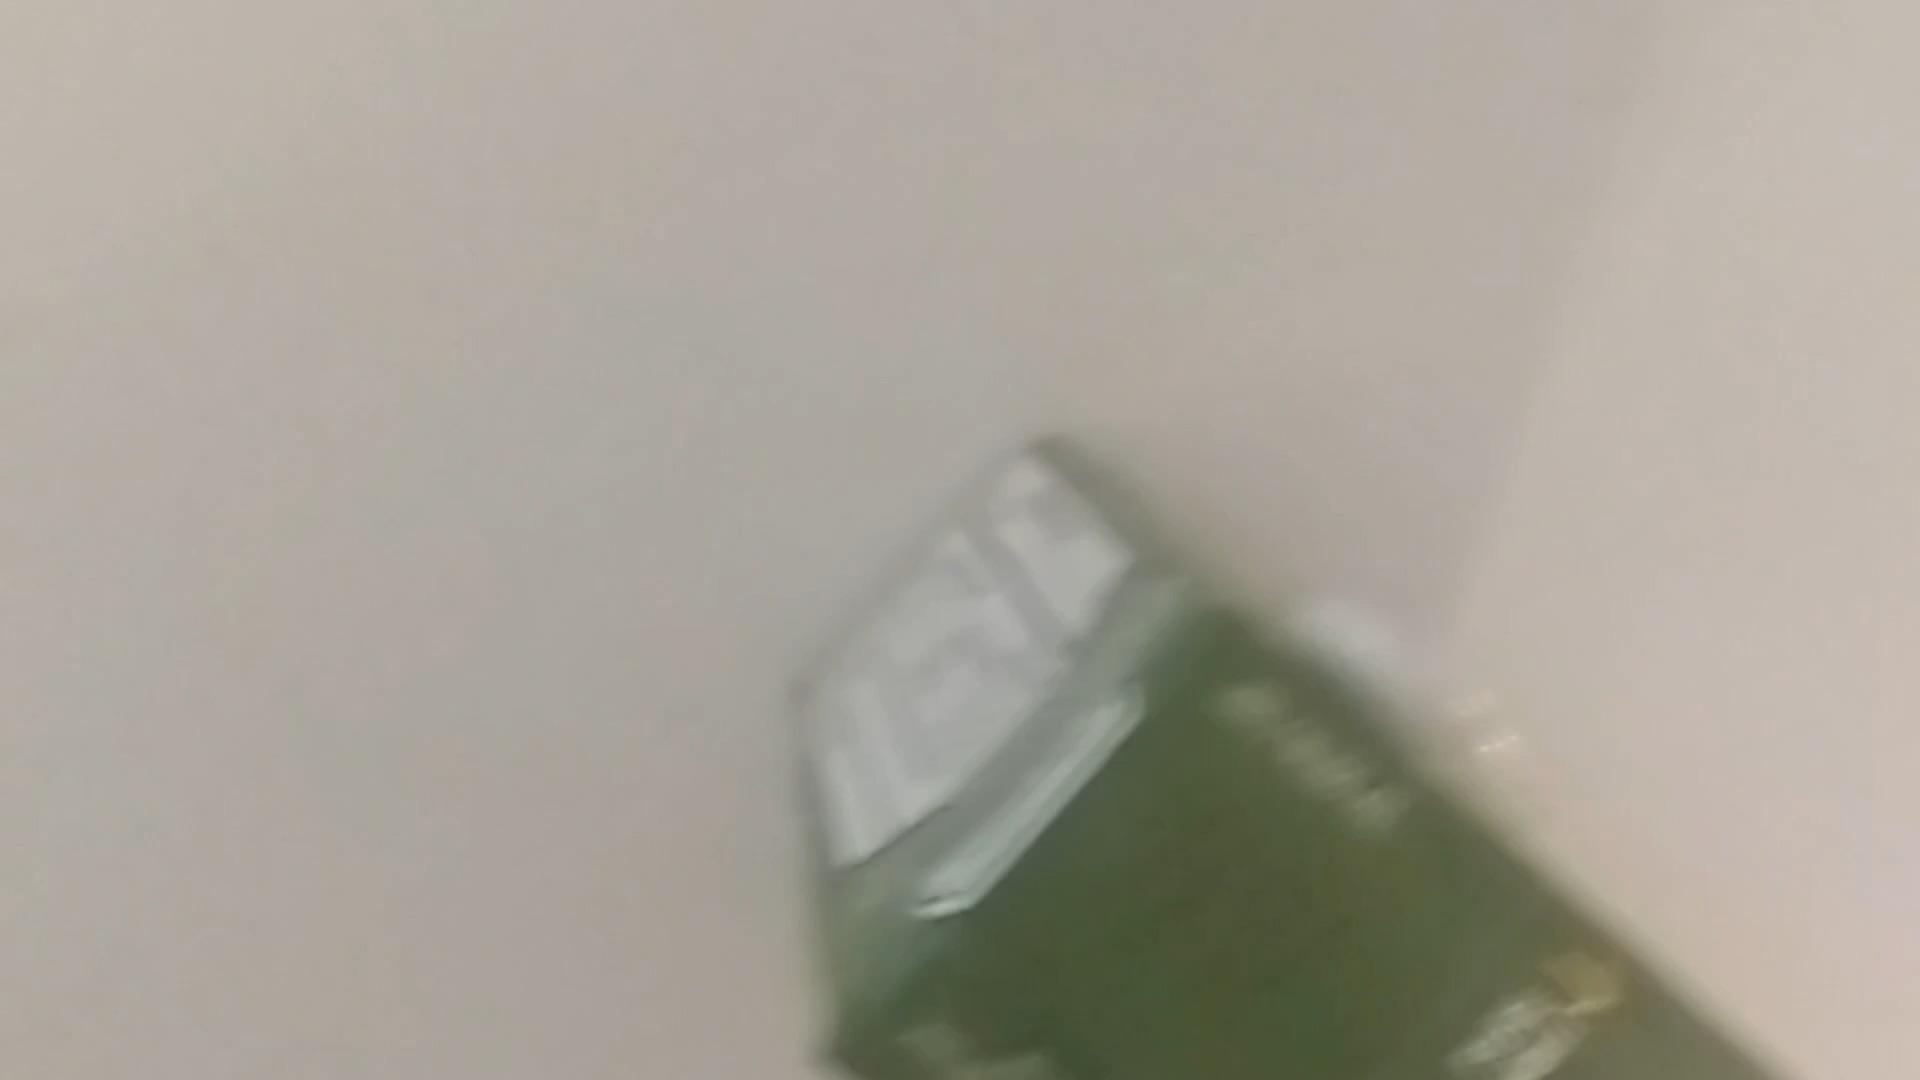coco: (781, 430, 1767, 1080)
